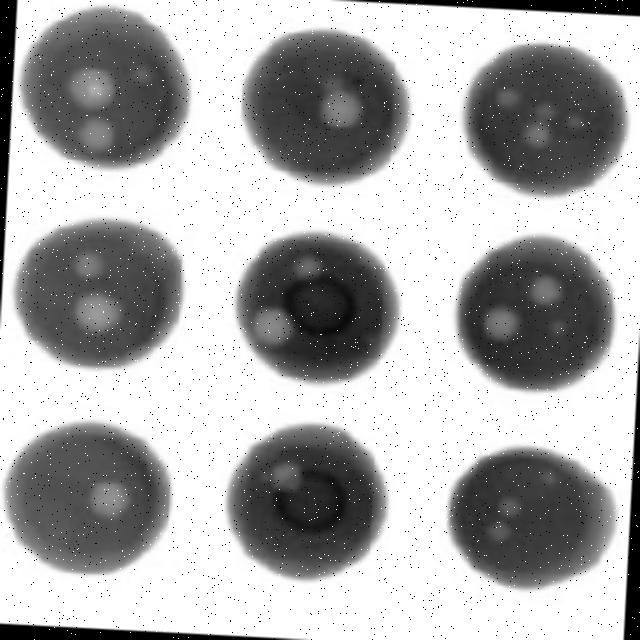chip: (22, 8, 187, 168), (244, 30, 408, 183), (6, 424, 170, 573), (15, 220, 182, 366), (466, 44, 626, 195), (457, 237, 614, 390), (237, 233, 398, 380), (231, 427, 385, 578), (450, 448, 615, 588)
void: (85, 479, 136, 526), (73, 293, 122, 336), (481, 496, 523, 543), (68, 68, 114, 109), (320, 84, 362, 126), (260, 461, 304, 501), (252, 308, 294, 345), (480, 303, 518, 343), (523, 105, 558, 147), (527, 269, 565, 306), (78, 119, 114, 151), (528, 275, 563, 305), (74, 251, 104, 277), (493, 87, 523, 110), (293, 257, 322, 277), (134, 65, 153, 83), (566, 114, 584, 130), (550, 320, 566, 335), (540, 471, 557, 484)
